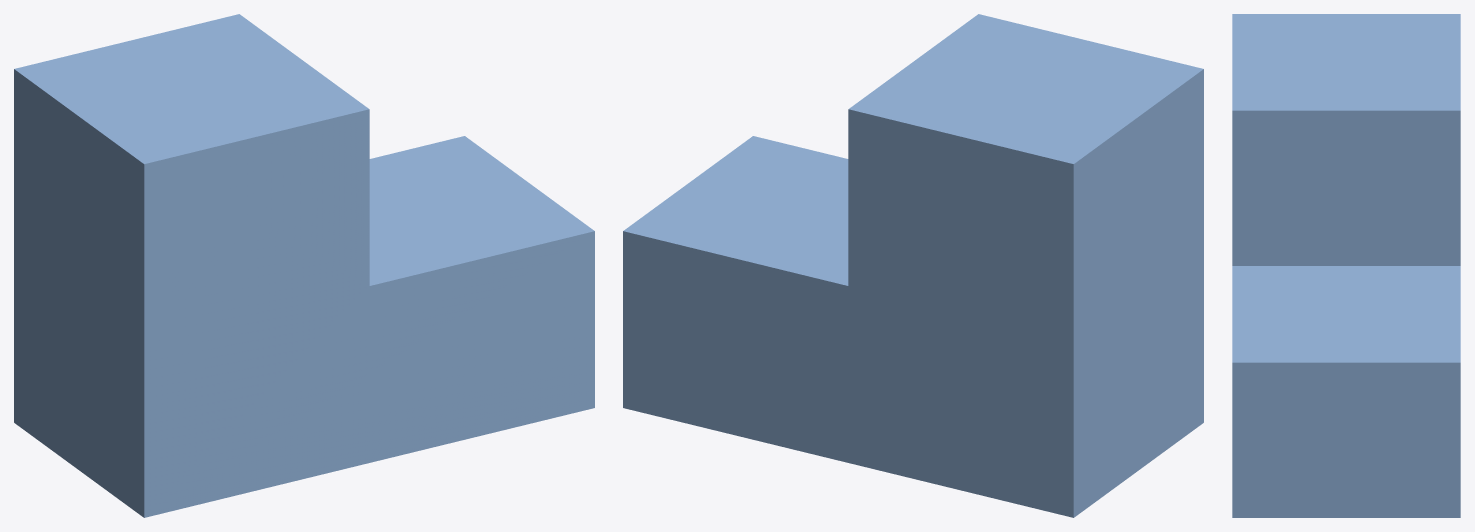
File: step.glb
The picture shows the model from 3 angles, left to right: view 1: azimuth 30°, elevation 25°; view 2: azimuth 150°, elevation 25°; view 3: azimuth 270°, elevation 25°; orthographic projection. The views are drawn at different scales.
Visible parts, largest first — view 1: step; view 2: step; view 3: step.
Boxes of the visible parts, x1=… form: step: x1=14, y1=14, x2=594, y2=517; step: x1=623, y1=14, x2=1203, y2=517; step: x1=1232, y1=14, x2=1460, y2=517.
Bounding box in the file's own units: 80 × 60 × 40.
